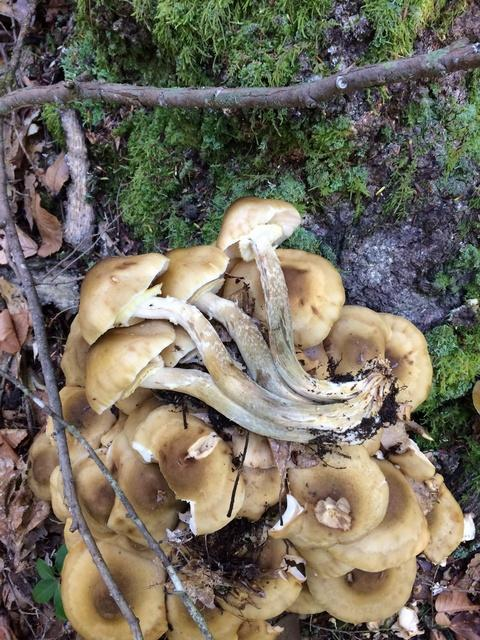Edible Mushroom: (28, 196, 466, 638)
